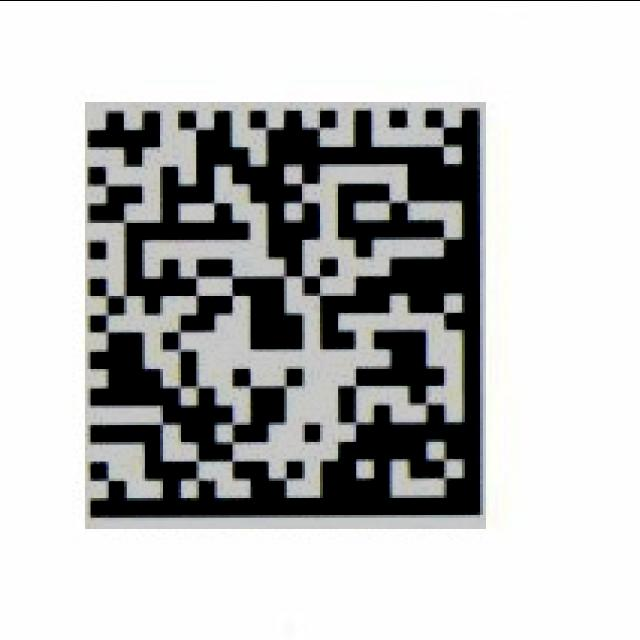DataMatrix: (85, 101, 486, 528)
